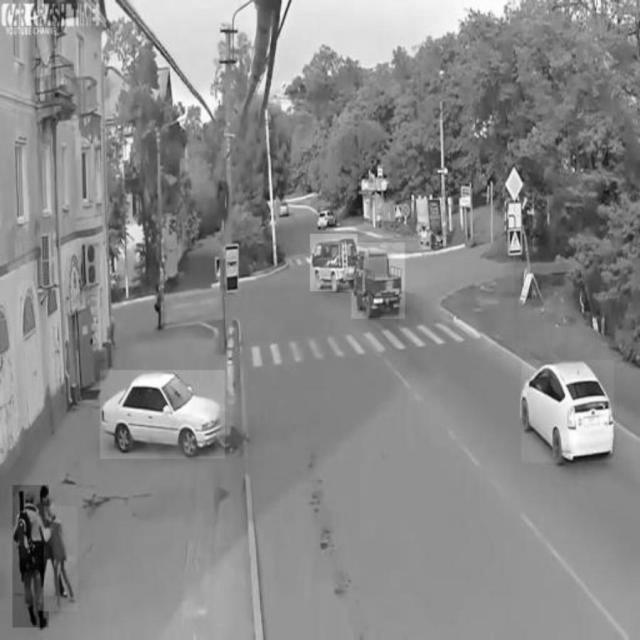person: (13, 484, 49, 628), (44, 507, 78, 611)
vehicle: (101, 371, 225, 459), (521, 360, 613, 462), (352, 243, 406, 319), (309, 234, 357, 291), (318, 207, 338, 231)
